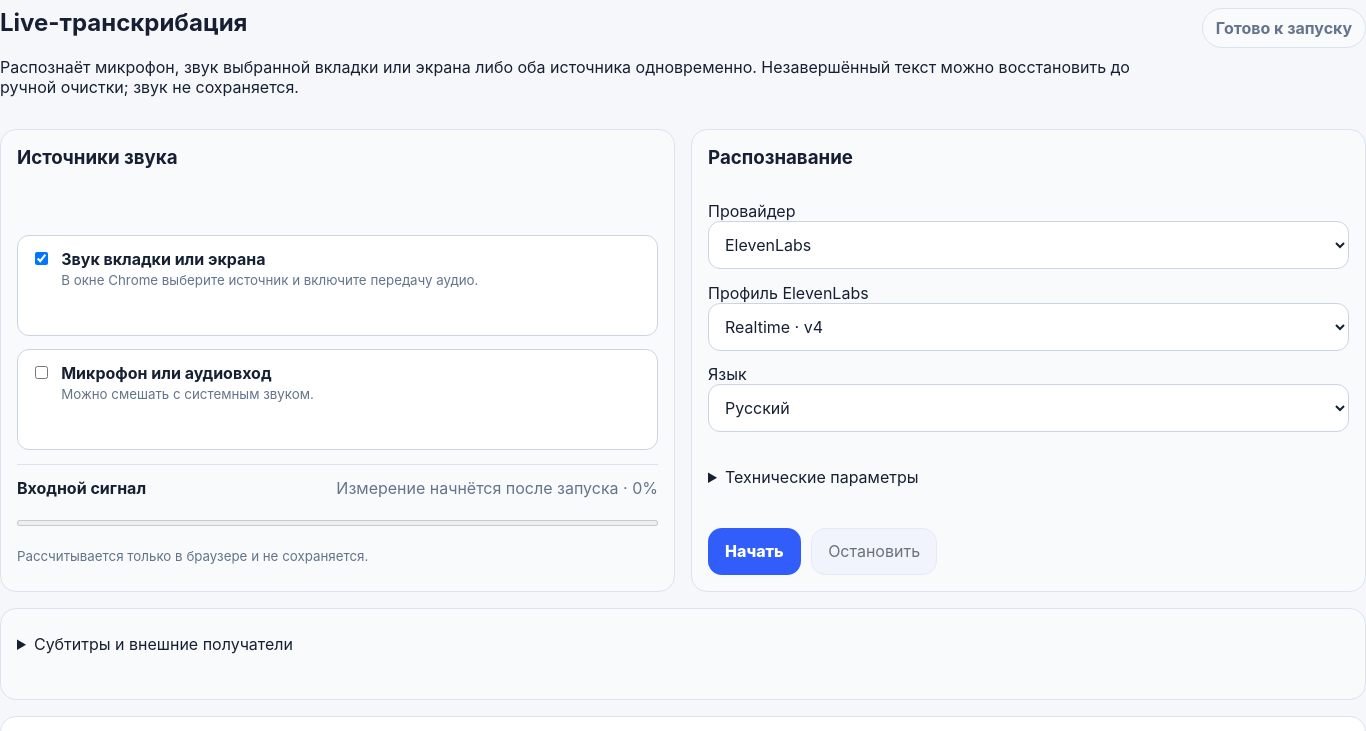
Scenario: LiveTranscriptionPanel › makes deletion the final server mutation after queued checkpoints
Step 1. Click the button "Начать" → (754, 551), box [708, 528, 801, 575]
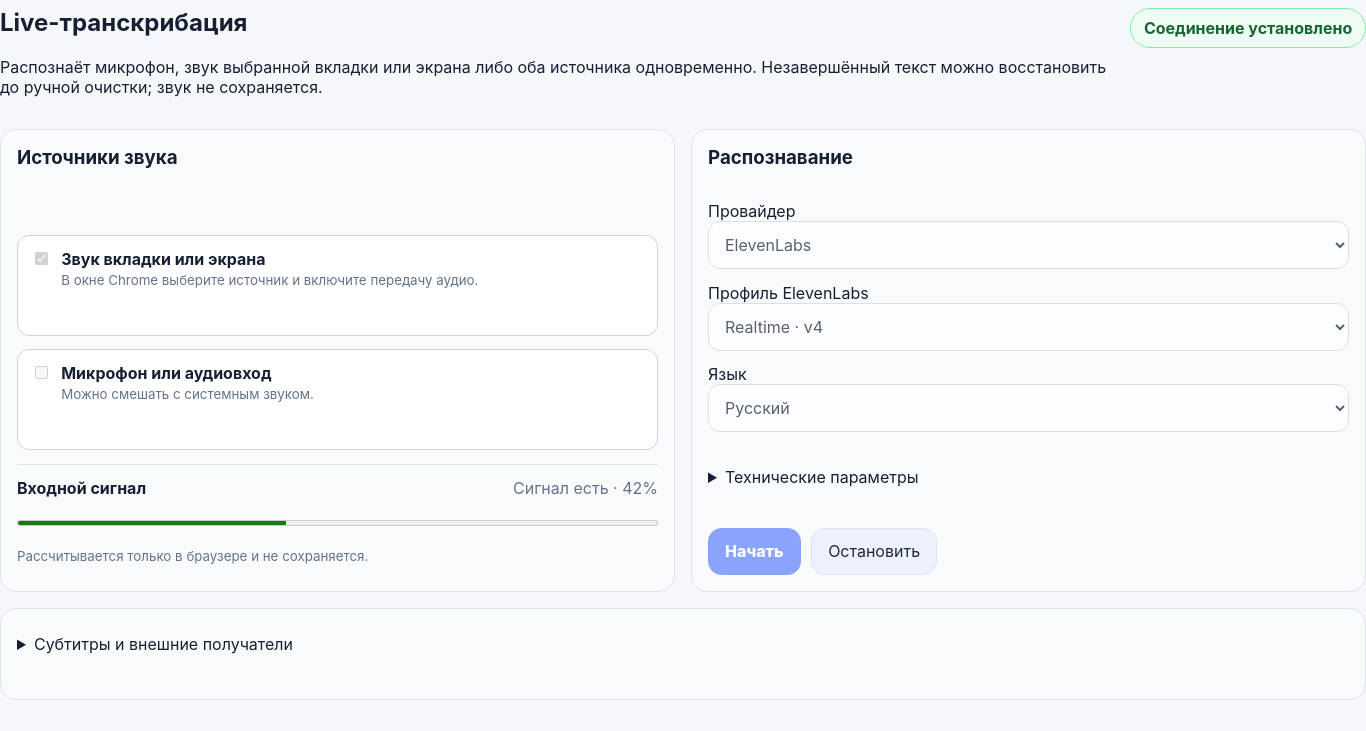
Step 2. Click the button "Остановить" → (874, 551), box [811, 528, 937, 575]
(page scrolled)
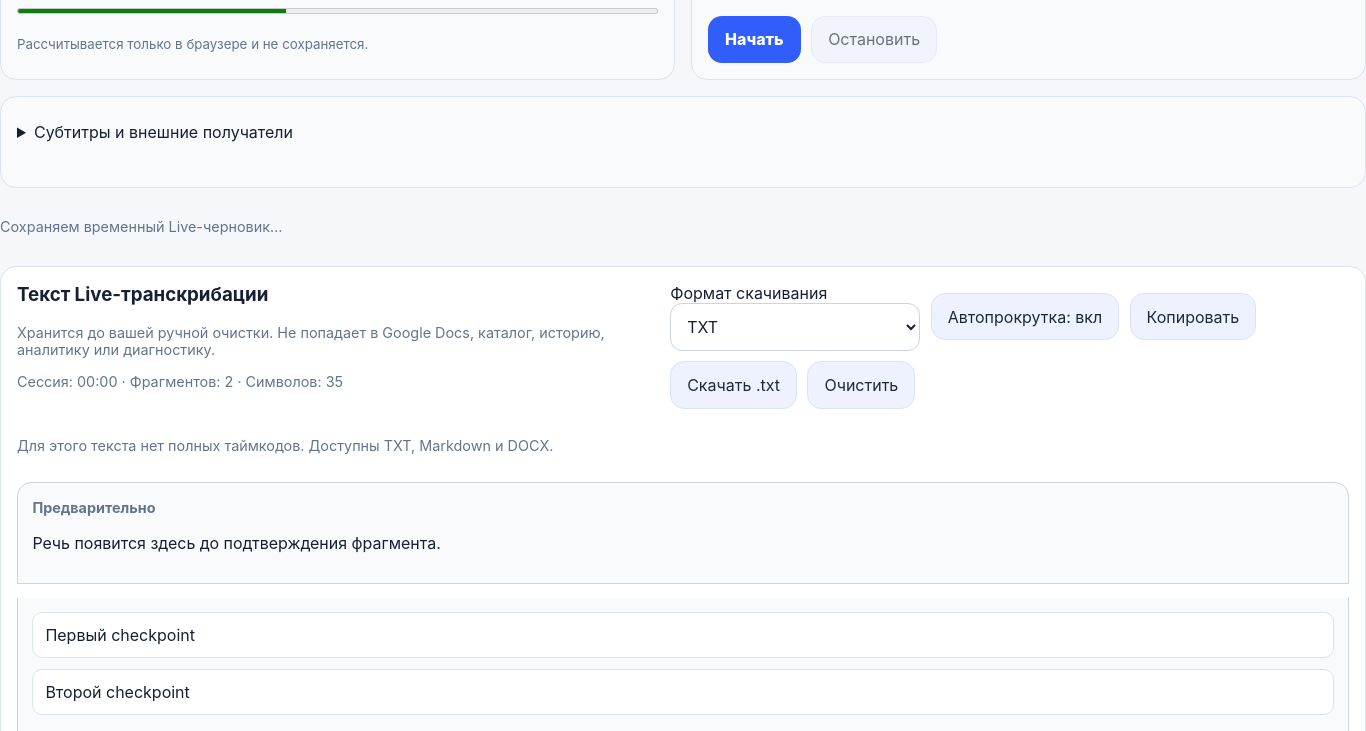
Step 3. Click the button "Очистить" → (861, 385), box [807, 361, 915, 409]
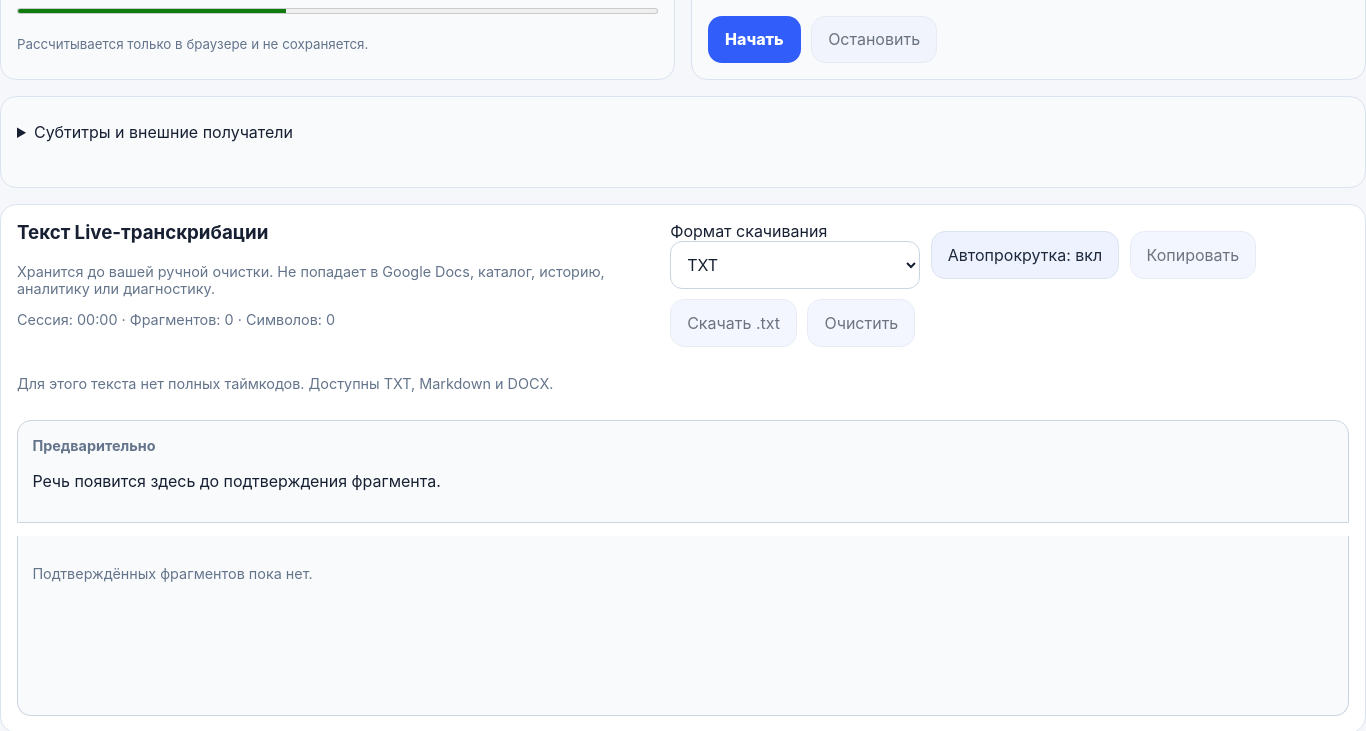
Now the text "Подтверждённых фрагментов пока нет." is shown, box [32, 565, 313, 582]
